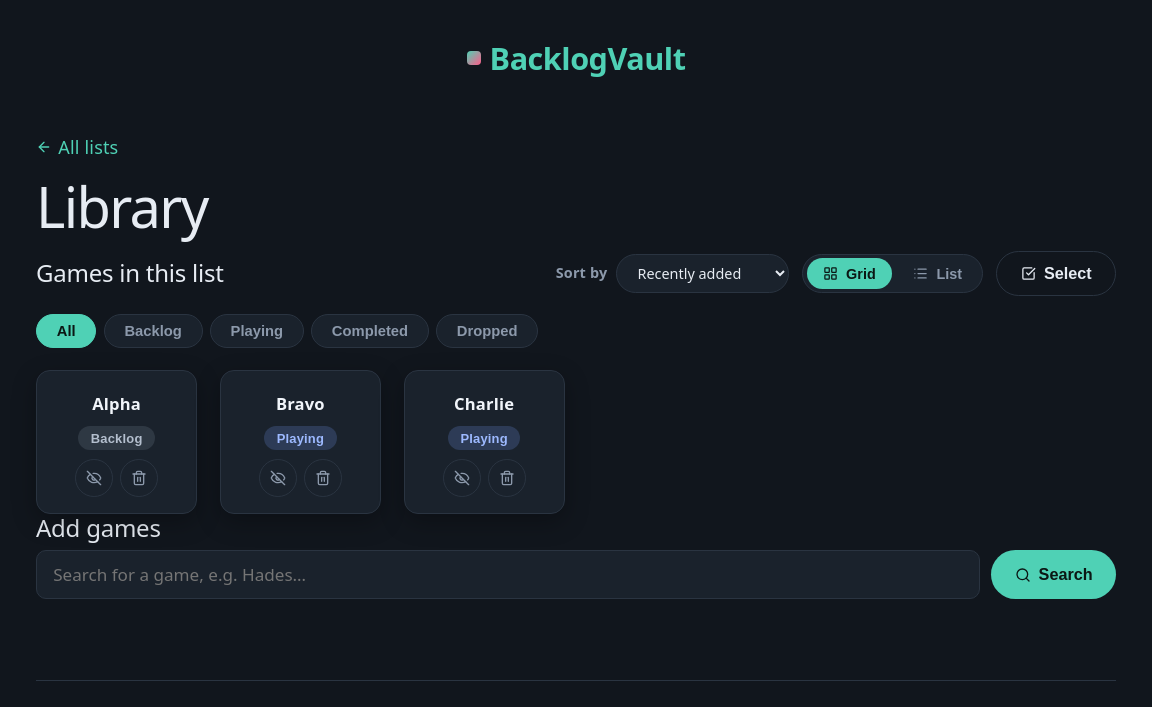
the list page › removes a game with a trash-can button that is named after the game and asks first
Expected: the heading "Library" is shown, left=36, top=168, right=208, bottom=244
Step 1. Click the button named "Remove Bravo from this list" → (323,478), box left=304, top=459, right=342, bottom=497
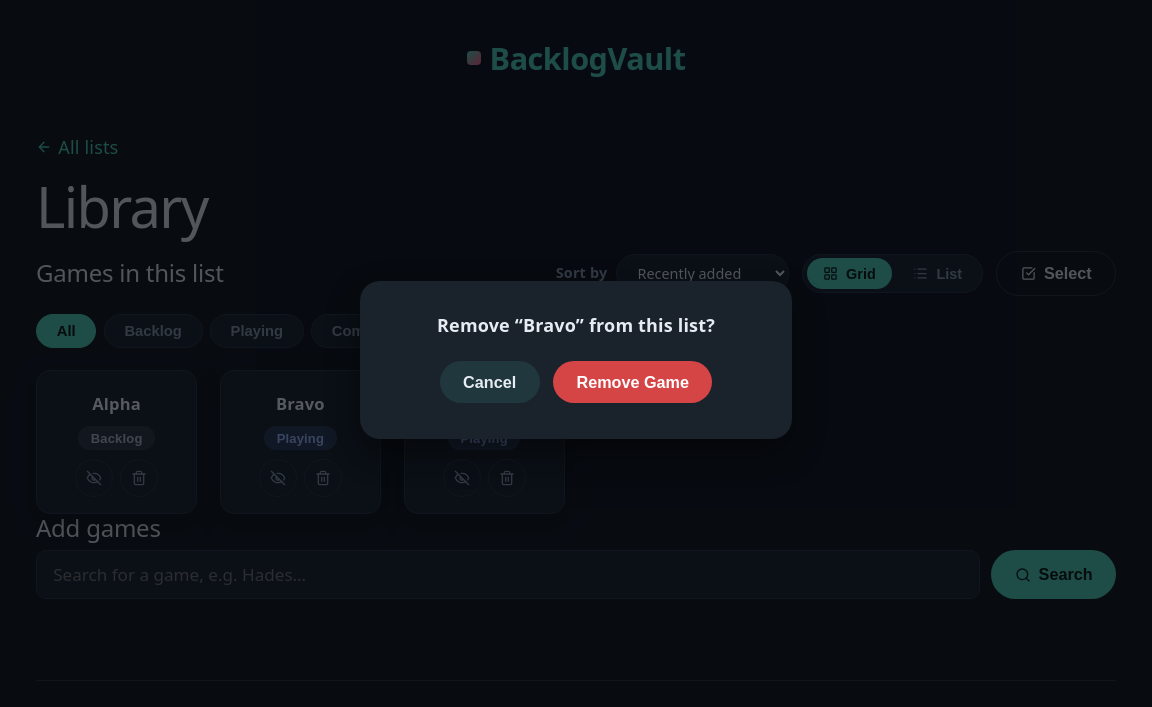
Result: the dialog is shown at left=360, top=281, right=792, bottom=439
